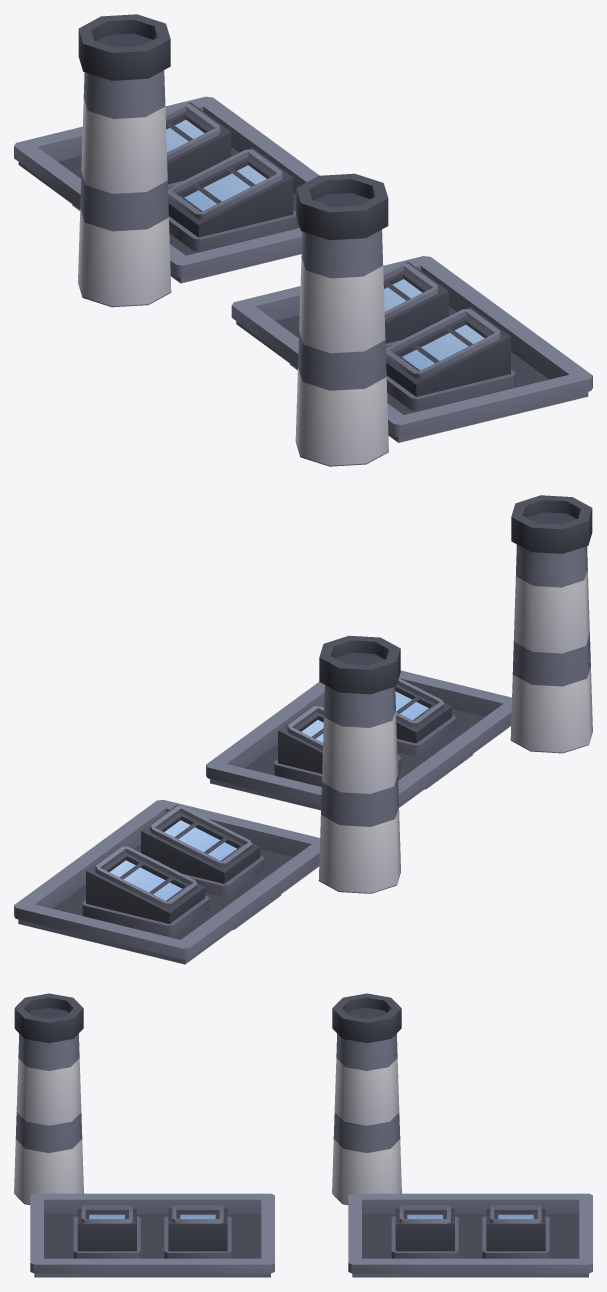
Rendered from industrial-f.glb.
The picture shows the model from 3 angles, top to bottom: view 1: azimuth 30°, elevation 25°; view 2: azimuth 150°, elevation 25°; view 3: azimuth 270°, elevation 25°; orthographic projection. The views are drawn at different scales.
Visible parts, largest first — view 1: building-f; view 2: building-f; view 3: building-f.
Part boxes in pixels (<box>): building-f: <box>14,14,592,466</box>; building-f: <box>14,495,592,964</box>; building-f: <box>14,993,592,1277</box>.
Bounding box in the file's own units: 14.91 × 12.8 × 36.23.
1 material, 1 textured.
